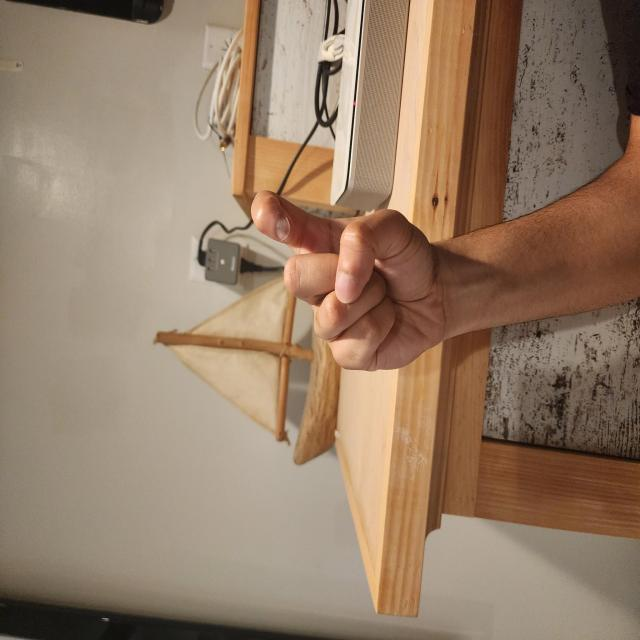X: (172, 284, 372, 623)
